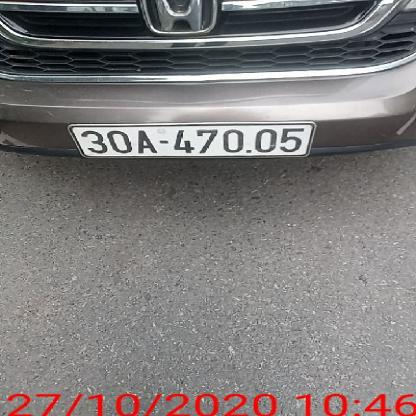biensoxe: (59, 115, 319, 162)
